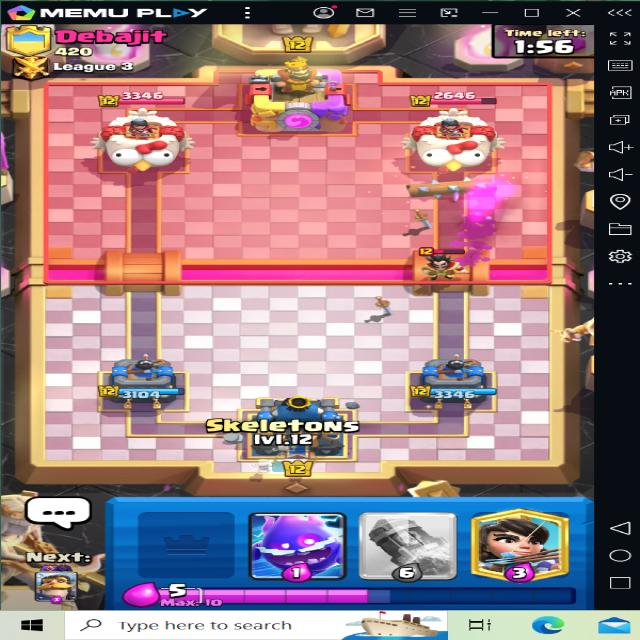electro-wizard: (416, 237, 465, 280)
